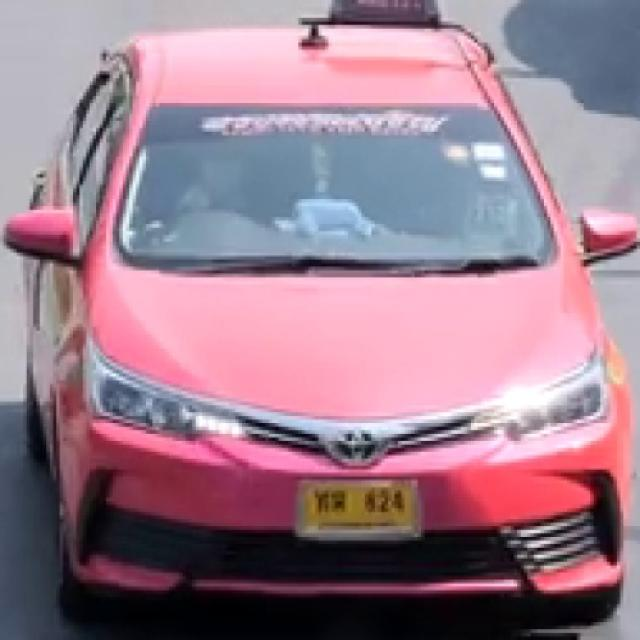plate: (303, 482, 420, 536)
